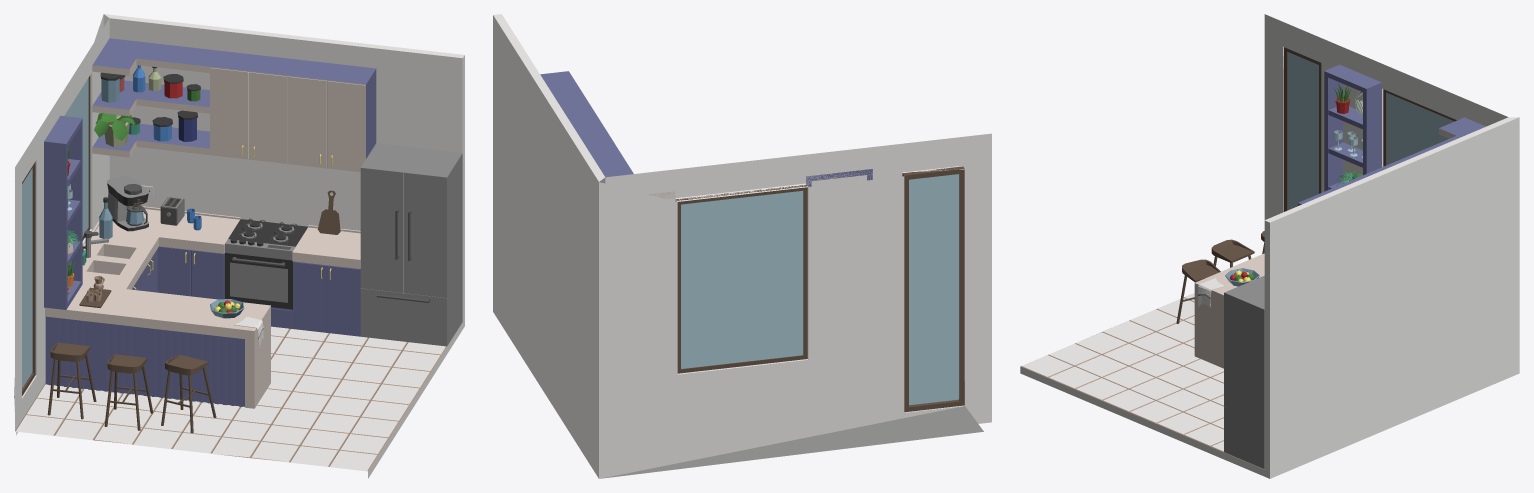
File: Playbook_kitchen.fbx
3 renders of one model, left to right at view 1: azimuth 30°, elevation 25°; view 2: azimuth 150°, elevation 25°; view 3: azimuth 270°, elevation 25°, orthographic. The views are drawn at different scales.
Parts seen in each view (by area): view 1: Object_22.001; view 2: Object_22.001; view 3: Object_22.001.
Part boxes in pixels (<box>): Object_22.001: <box>14,14,464,478</box>; Object_22.001: <box>493,14,991,478</box>; Object_22.001: <box>1020,14,1519,478</box>.
Bounding box in the file's own units: 1154 × 661 × 1166.
